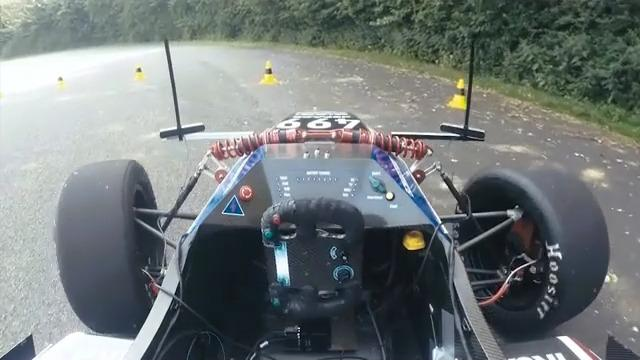yellow_cone: (443, 70, 477, 118), (252, 55, 283, 85), (47, 68, 70, 85), (132, 54, 150, 71)
